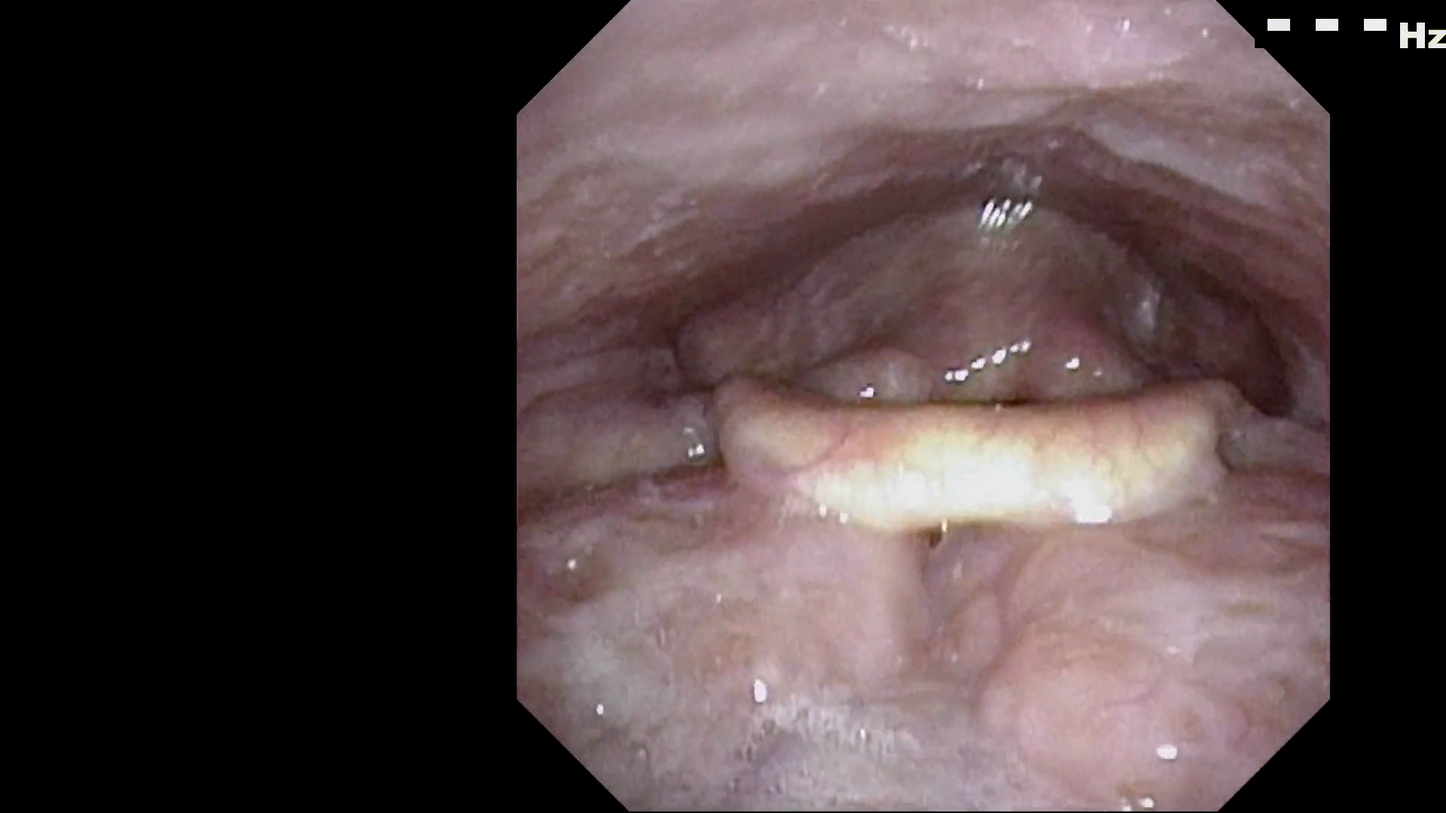epiglottis: (698, 345, 1270, 598)
trachea: (932, 360, 1051, 484)
